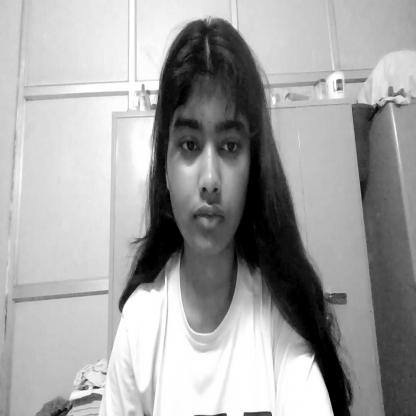Normal: (155, 20, 262, 261)
